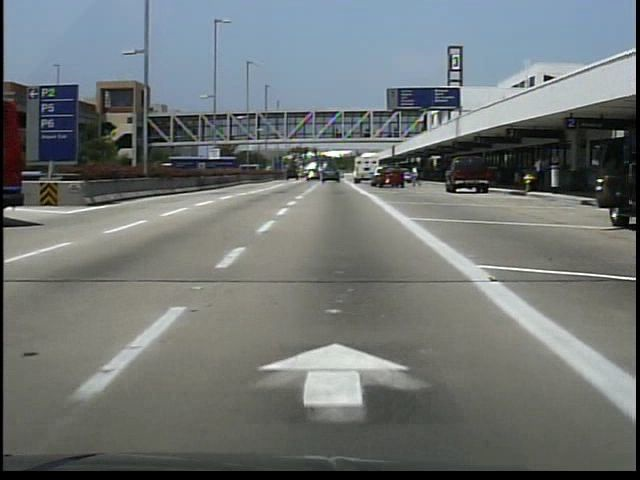person: (530, 154, 549, 197), (410, 168, 424, 190)
